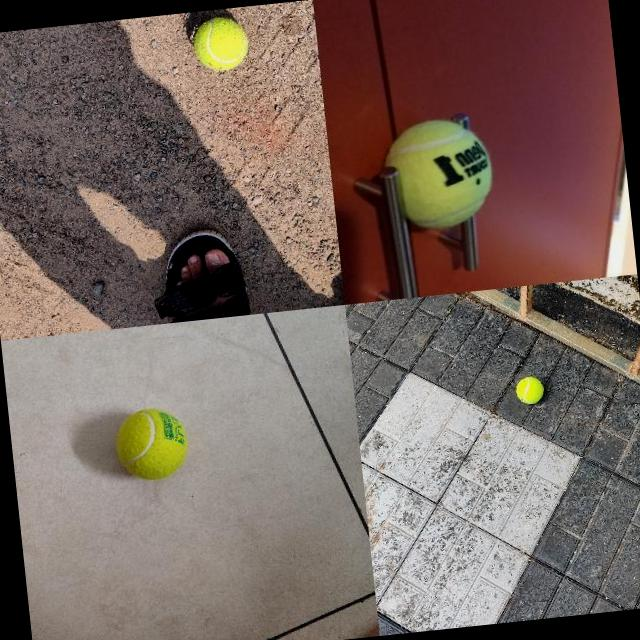Tennis Ball: (396, 114, 498, 232), (112, 405, 190, 483), (192, 14, 250, 72), (515, 374, 546, 405)
